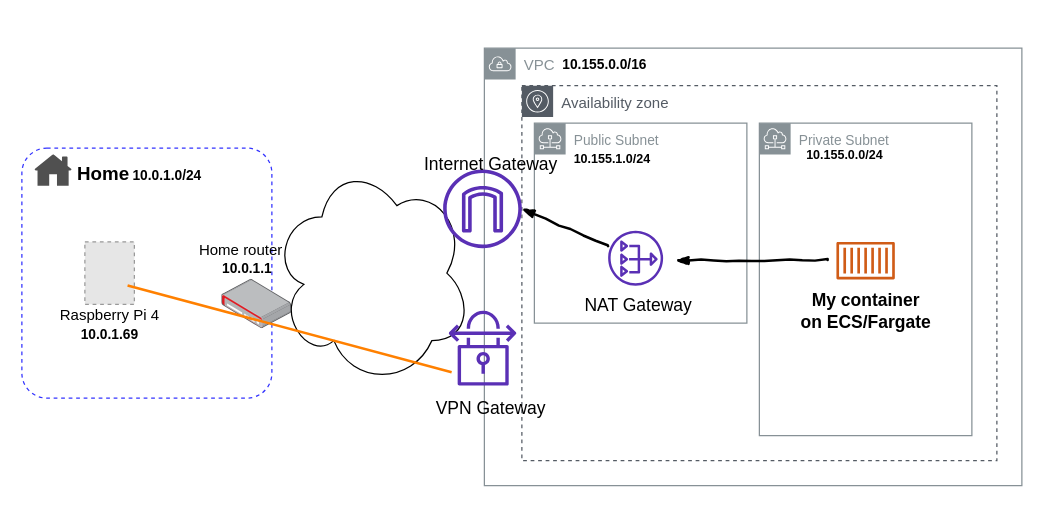
Some shapes in this 1044 by 508 pixel diagram are drawn without their labels. Grey dashed boxes stand in for pictures. The shapes that lost their labels are listed below. From the top down, each one's centre as x and y in pixels, then its label:
point 371,272: Internet
point 256,303: VPN Tunnel
